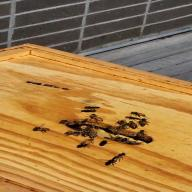Bee: (31, 122, 60, 139), (107, 147, 130, 165), (122, 109, 149, 122), (75, 136, 100, 150), (84, 114, 106, 123), (76, 104, 108, 110)
